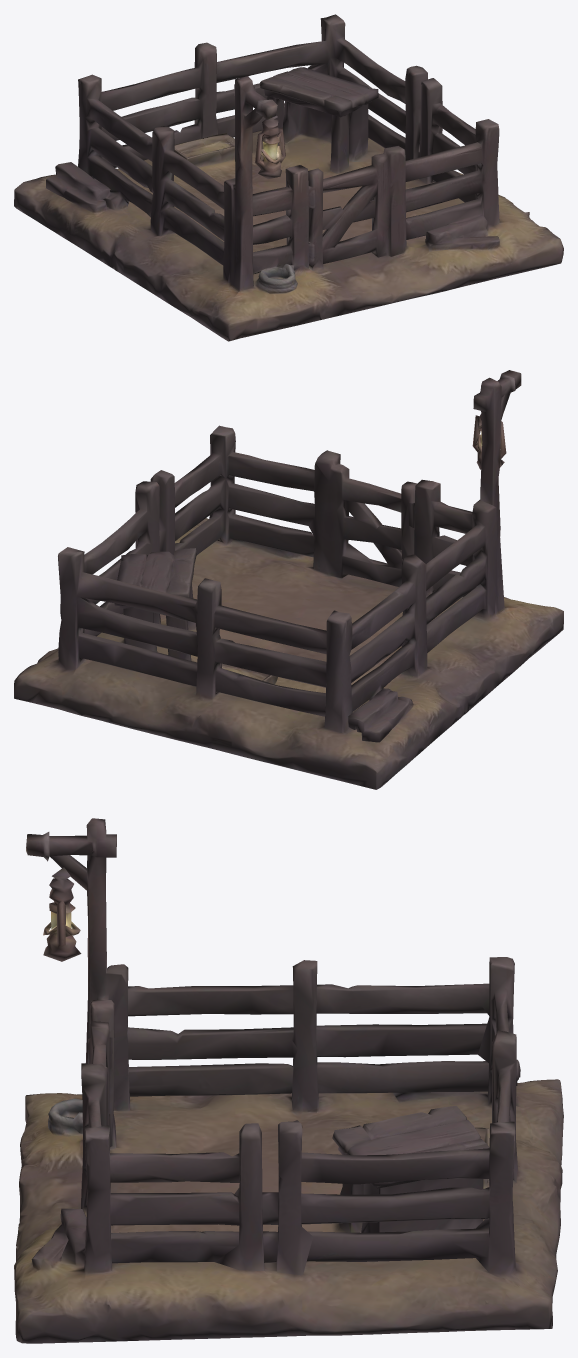
The model's file is farm_goat_pen.glb.
3 renders of one model, top to bottom at view 1: azimuth 30°, elevation 25°; view 2: azimuth 150°, elevation 25°; view 3: azimuth 270°, elevation 25°, orthographic. The views are drawn at different scales.
Parts seen in each view (by area): view 1: tripo_node_b552660e-fa74-4df3-a12d-7c332053dc9b; view 2: tripo_node_b552660e-fa74-4df3-a12d-7c332053dc9b; view 3: tripo_node_b552660e-fa74-4df3-a12d-7c332053dc9b.
Part boxes in pixels (x1,y1,x2,y2): tripo_node_b552660e-fa74-4df3-a12d-7c332053dc9b: (14,14,563,341); tripo_node_b552660e-fa74-4df3-a12d-7c332053dc9b: (14,370,563,789); tripo_node_b552660e-fa74-4df3-a12d-7c332053dc9b: (14,818,563,1343).
Bounding box in the file's own units: 1 × 0.6263 × 0.9614.
Materials: 1 (1 with a texture image).
